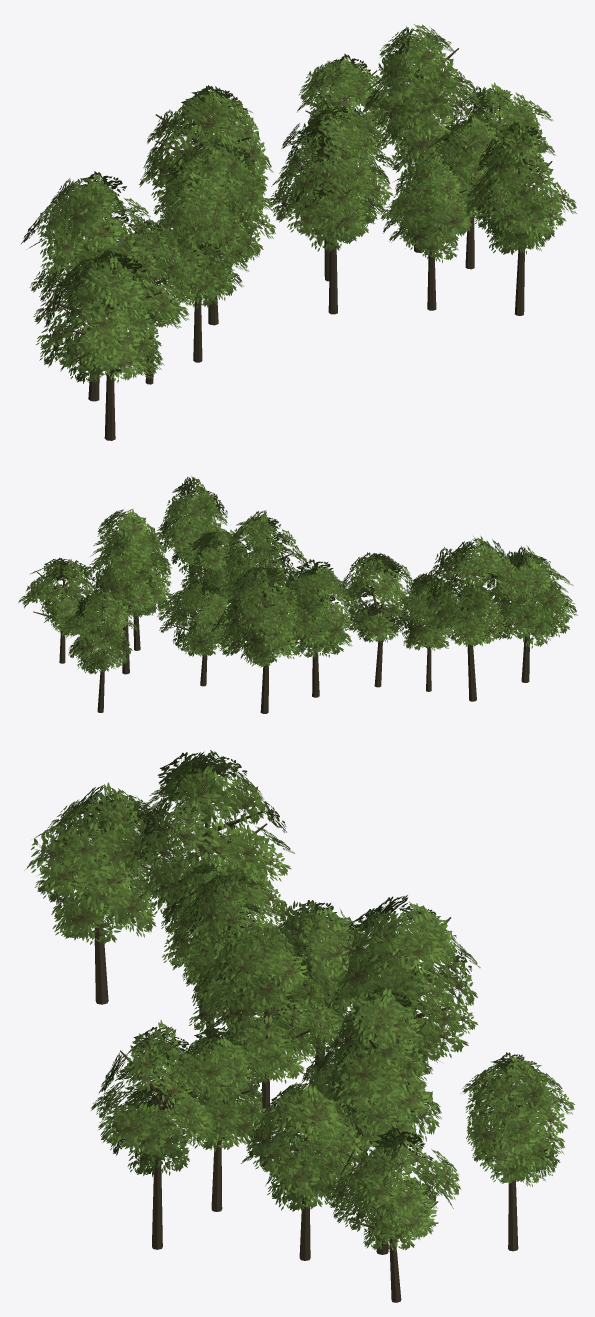
File: TRB8-FOREST-CHUNK-5-3.glb
3 renders of one model, top to bottom at view 1: azimuth 30°, elevation 25°; view 2: azimuth 150°, elevation 25°; view 3: azimuth 270°, elevation 25°, orthographic. The views are drawn at different scales.
Visible parts, largest first — view 1: TRB8-FOREST-CHUNK-5-3; view 2: TRB8-FOREST-CHUNK-5-3; view 3: TRB8-FOREST-CHUNK-5-3.
Boxes of the visible parts, x1=… form: TRB8-FOREST-CHUNK-5-3: x1=21, y1=24, x2=576, y2=440; TRB8-FOREST-CHUNK-5-3: x1=18, y1=476, x2=577, y2=713; TRB8-FOREST-CHUNK-5-3: x1=24, y1=750, x2=574, y2=1302.
Size of the model in its own units: 17.61 by 6.31 by 11.58.
2 materials, 1 textured.
